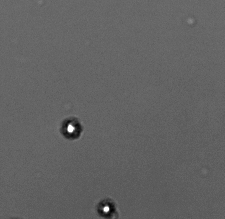Living Cell: (61, 117, 82, 140), (96, 198, 116, 217)
